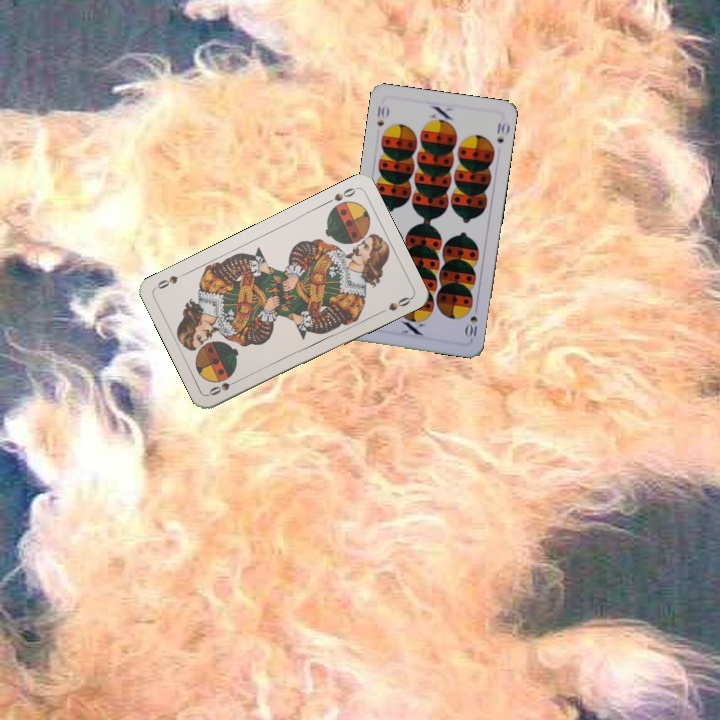S10: (462, 301, 480, 340), (373, 100, 391, 128)
SO: (205, 374, 243, 398), (321, 184, 359, 207)
